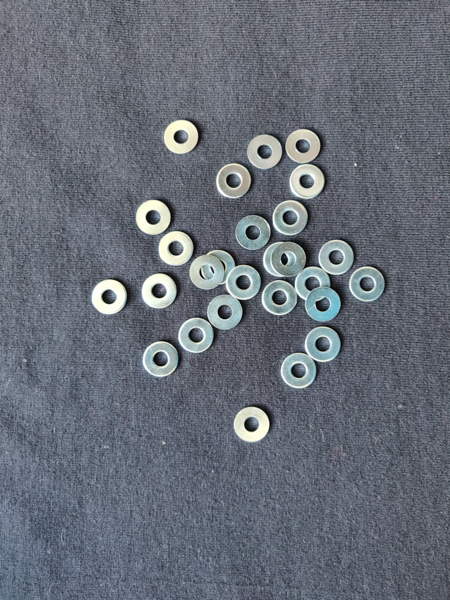circle: (270, 198, 311, 238), (140, 269, 180, 310), (349, 264, 387, 307), (162, 117, 202, 157), (293, 266, 333, 305), (133, 198, 173, 237), (205, 293, 245, 331), (233, 406, 274, 443), (290, 162, 328, 201), (280, 352, 318, 391), (142, 340, 180, 379), (235, 213, 274, 251), (245, 132, 283, 171), (320, 238, 357, 278), (90, 279, 127, 318), (213, 164, 252, 200), (178, 317, 215, 354), (226, 263, 262, 301), (263, 242, 302, 277), (285, 128, 322, 164), (262, 280, 298, 317), (304, 327, 341, 363), (157, 230, 193, 267), (271, 242, 306, 278), (201, 251, 237, 286), (306, 288, 341, 321), (191, 255, 223, 291)
